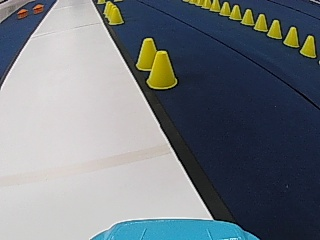cone: (147, 51, 177, 90), (135, 37, 159, 71), (299, 35, 318, 58), (282, 25, 299, 49), (267, 20, 282, 39), (253, 13, 267, 32), (108, 9, 124, 25), (241, 8, 254, 27), (228, 5, 241, 20), (219, 2, 230, 16), (209, 0, 219, 12)
